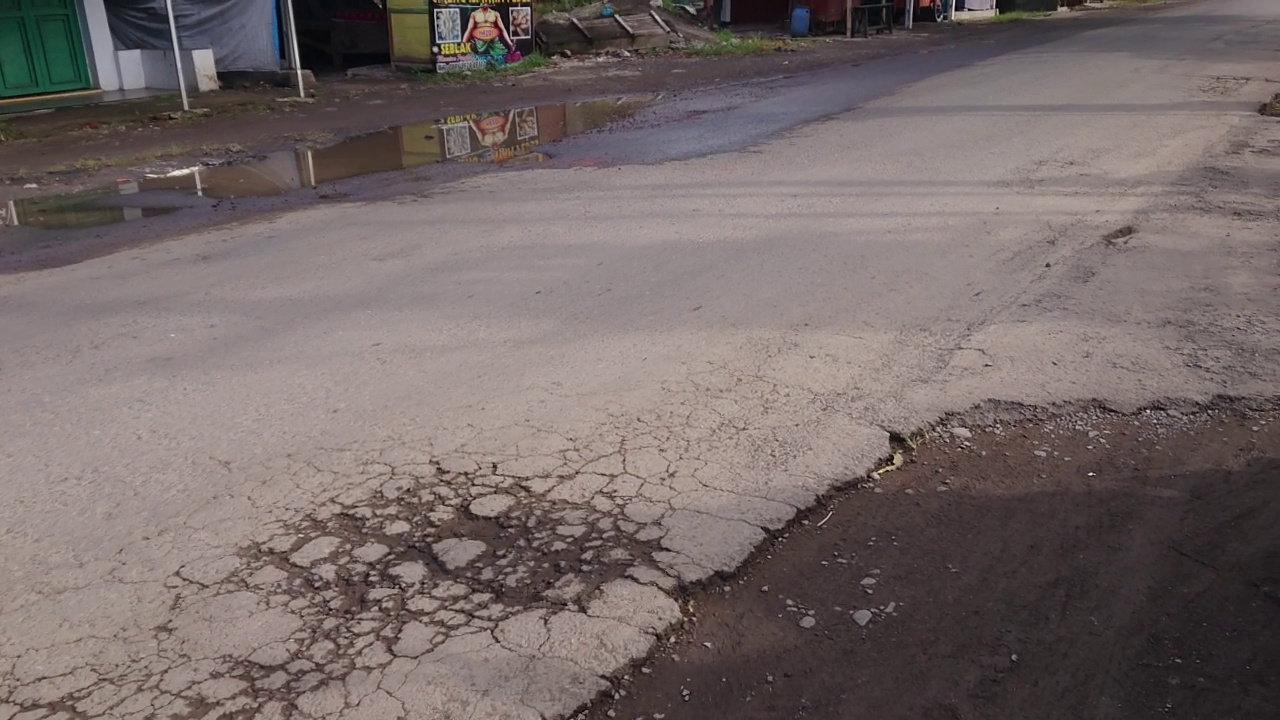Retak: (243, 450, 666, 706), (672, 360, 802, 476), (1178, 278, 1280, 392)
